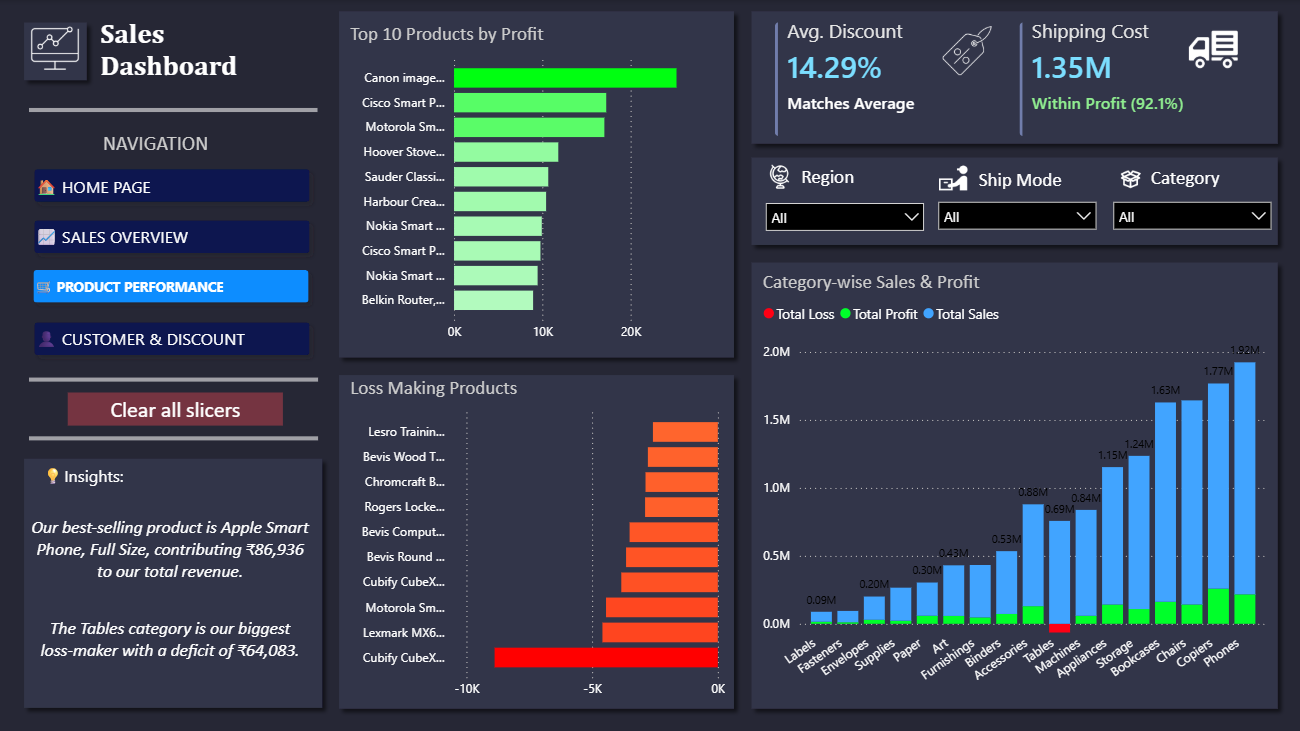

This screenshot's page, from the dashboard's own definition file:
{"tool":"powerbi","page":{"name":"🛒 PRODUCT PERFORMANCE","canvas":[1280,720],"ordinal":2},"visuals":[{"type":"shape","box":[730.1,249.1,533.7,455.2],"z":0},{"type":"textbox","box":[94.5,12.1,157.5,73.8],"z":1000},{"type":"shape","box":[730.1,2.5,533.7,147.2],"z":2000},{"type":"cardVisual","fields":{"Data":["measures_2.average_discount","measures_2.total_shipping_cost"]},"box":[744.8,4.9,506.8,146],"z":3000},{"type":"shape","box":[29.4,95.7,283.4,24.5],"z":4000},{"type":"shape","box":[29.5,360.8,283.8,23.8],"z":5000},{"type":"shape","box":[15.7,13.3,78.8,73.8],"z":6000},{"type":"image","box":[25.7,22.1,58.8,48.8],"z":7000},{"type":"shape","box":[730.1,146,533.7,103.1],"z":8000},{"type":"actionButton","box":[1123.9,154.6,81,40.5],"z":9000},{"type":"image","box":[752.2,157.1,28.2,33.1],"z":10000},{"type":"slicer","title":"Year","fields":{"Values":["sales_analysis processed_sales_data.category","sales_analysis processed_sales_data.sub_category"]},"box":[1083.4,187.7,175.5,51.5],"z":11000},{"type":"actionButton","box":[79,118.5,150.6,42],"z":12000},{"type":"shape","box":[29.5,418.3,283.8,23.8],"z":13000},{"type":"pageNavigator","box":[25.9,156.8,288.9,203.7],"z":14000},{"type":"columnChart","title":"Category-wise Sales & Profit","fields":{"Category":["sales_analysis processed_sales_data.category","sales_analysis processed_sales_data.sub_category"],"Y":["measures_2.negative_profit","measures_2.positive_profit","Sum(sales_analysis processed_sales_data.sales)"]},"box":[744.8,265,504.3,425.8],"z":15000},{"type":"slicer","title":"Year","fields":{"Values":["sales_analysis processed_sales_data.ship_mode"]},"box":[911.7,187.7,175.5,51.5],"z":16000},{"type":"actionButton","box":[954.6,155.8,95.7,40.5],"z":17000},{"type":"actionButton","box":[765.6,153.4,95.7,40.5],"z":18000},{"type":"image","box":[922.7,158.3,28.2,33.1],"z":19000},{"type":"image","box":[921.5,25.8,57.7,47.9],"z":20000},{"type":"image","box":[1163.2,24.5,57.7,47.9],"z":21000},{"type":"image","box":[1096.9,159.5,28.2,33.1],"z":22000},{"type":"shape","box":[325.2,2.5,404.9,357.1],"z":23000},{"type":"shape","box":[325.2,359.5,404.9,344.8],"z":24000},{"type":"shape","box":[16,442,309.9,261.7],"z":25000},{"type":"actionButton","box":[38.3,448.1,95.1,38.3],"z":26000},{"type":"card","fields":{"Values":["measures_2.dynamic_top_product"]},"box":[25.8,483.4,284.7,105.5],"z":27000},{"type":"card","fields":{"Values":["measures_2.dynamic_loss_products"]},"box":[25.8,590.2,284.7,73.6],"z":28000},{"type":"clusteredBarChart","title":"Top 10 Products by Profit","fields":{"Category":["sales_analysis processed_sales_data.sub_category","sales_analysis processed_sales_data.product_name"],"Y":["Sum(sales_analysis processed_sales_data.profit)"]},"box":[339.9,22.1,377.9,321.5],"z":29000},{"type":"clusteredBarChart","title":"Loss Making Products","fields":{"Category":["sales_analysis processed_sales_data.sub_category","sales_analysis processed_sales_data.product_name"],"Y":["Sum(sales_analysis processed_sales_data.profit)"]},"box":[339.9,369.3,377.9,325.2],"z":30000},{"type":"slicer","title":"Year","fields":{"Values":["sales_analysis processed_sales_data.region","sales_analysis processed_sales_data.state"]},"box":[741.8,188.6,175.9,50.6],"z":34000},{"type":"actionButton","box":[67,385.8,211.2,32.5],"z":37000}]}

Visuals, with their boxes in screenshot pixels (x1, y1, x2, y2), scaled from the page's 1280x720 canvas onto the 1300x731 screenshot:
shape: rect(742, 253, 1284, 715)
textbox: rect(96, 12, 256, 87)
shape: rect(742, 3, 1284, 152)
cardVisual - measures_2.average_discount x measures_2.total_shipping_cost: rect(756, 5, 1271, 153)
shape: rect(30, 97, 318, 122)
shape: rect(30, 366, 318, 390)
shape: rect(16, 14, 96, 88)
image: rect(26, 22, 86, 72)
shape: rect(742, 148, 1284, 253)
actionButton: rect(1141, 157, 1224, 198)
image: rect(764, 160, 793, 193)
"Year" slicer: rect(1100, 191, 1279, 243)
actionButton: rect(80, 120, 233, 163)
shape: rect(30, 425, 318, 449)
pageNavigator: rect(26, 159, 320, 366)
"Category-wise Sales & Profit" columnChart: rect(756, 269, 1269, 701)
"Year" slicer: rect(926, 191, 1104, 243)
actionButton: rect(970, 158, 1067, 199)
actionButton: rect(778, 156, 875, 197)
image: rect(937, 161, 966, 194)
image: rect(936, 26, 994, 75)
image: rect(1181, 25, 1240, 74)
image: rect(1114, 162, 1143, 196)
shape: rect(330, 3, 742, 365)
shape: rect(330, 365, 742, 715)
shape: rect(16, 449, 331, 714)
actionButton: rect(39, 455, 135, 494)
card - measures_2.dynamic_top_product: rect(26, 491, 315, 598)
card - measures_2.dynamic_loss_products: rect(26, 599, 315, 674)
"Top 10 Products by Profit" clusteredBarChart: rect(345, 22, 729, 349)
"Loss Making Products" clusteredBarChart: rect(345, 375, 729, 705)
"Year" slicer: rect(753, 191, 932, 243)
actionButton: rect(68, 392, 283, 425)
